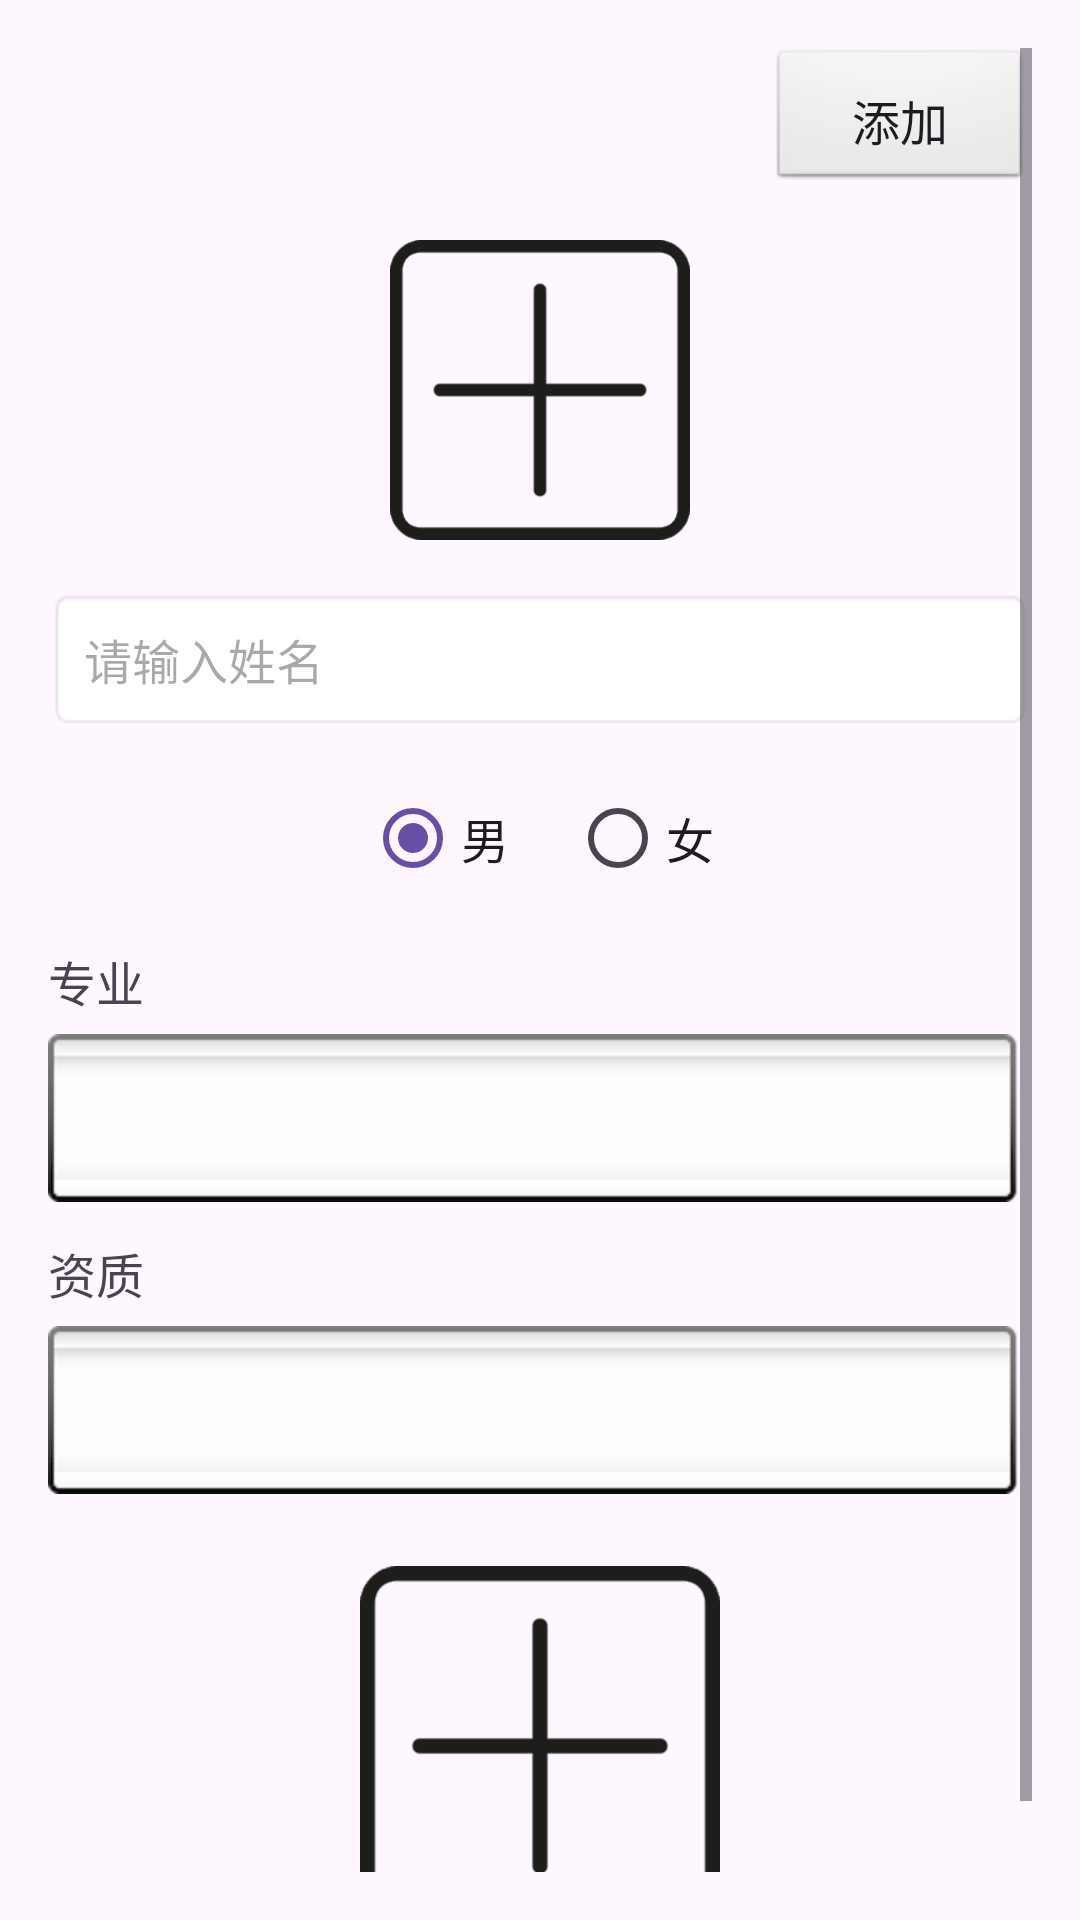

Named icons in this screenshot (1080 x 1920) and their bounding boxes, (x1, y1, x2, y2):
点击上传头像: (390, 240, 690, 540)
点击上传证书: (360, 1566, 720, 1872)
